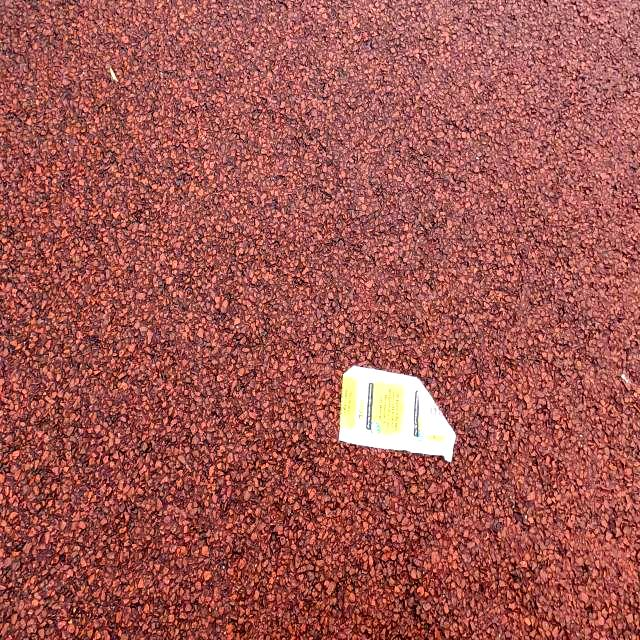Paper: (337, 364, 458, 464)
